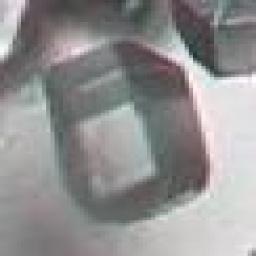crystals: (39, 40, 214, 228)
